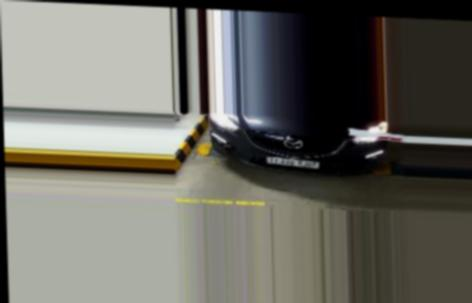License_Plate: (263, 156, 322, 169)
